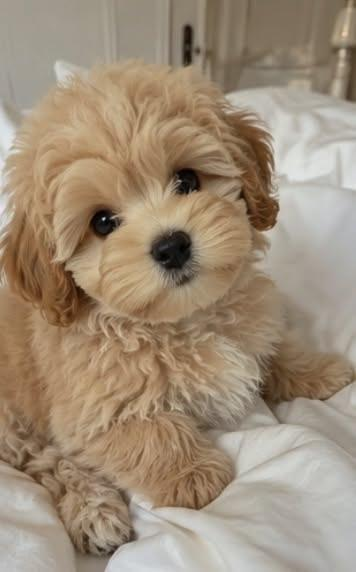puppy-dog: (0, 59, 354, 553)
